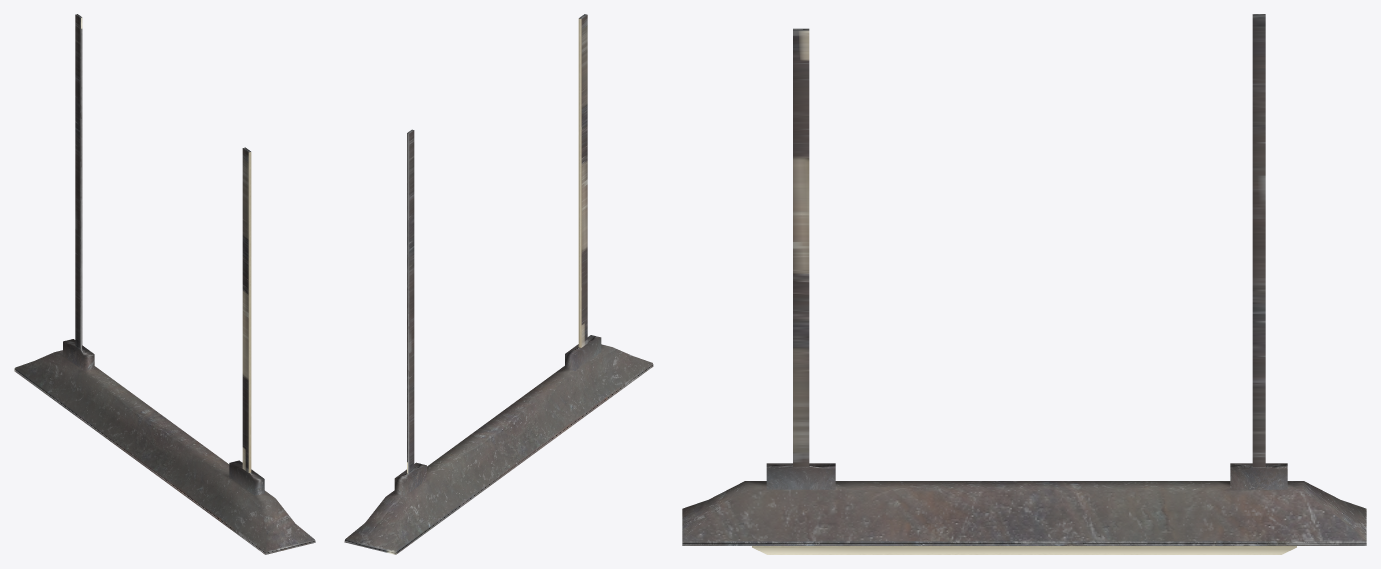
Rendered from ceiling_rectangle_light_final.fbx.
The picture shows the model from 3 angles, left to right: view 1: azimuth 30°, elevation 25°; view 2: azimuth 150°, elevation 25°; view 3: azimuth 270°, elevation 25°; orthographic projection. The views are drawn at different scales.
Parts seen in each view (by area): view 1: ceiling_rectangle_light; view 2: ceiling_rectangle_light; view 3: ceiling_rectangle_light.
Part boxes in pixels (x1,y1,x2,y2): ceiling_rectangle_light: (14, 14, 315, 554); ceiling_rectangle_light: (344, 14, 653, 554); ceiling_rectangle_light: (682, 14, 1366, 554).
Size of the model in its own units: 8.3 by 61.64 by 71.63.
Materials: 1 (1 with a texture image).
